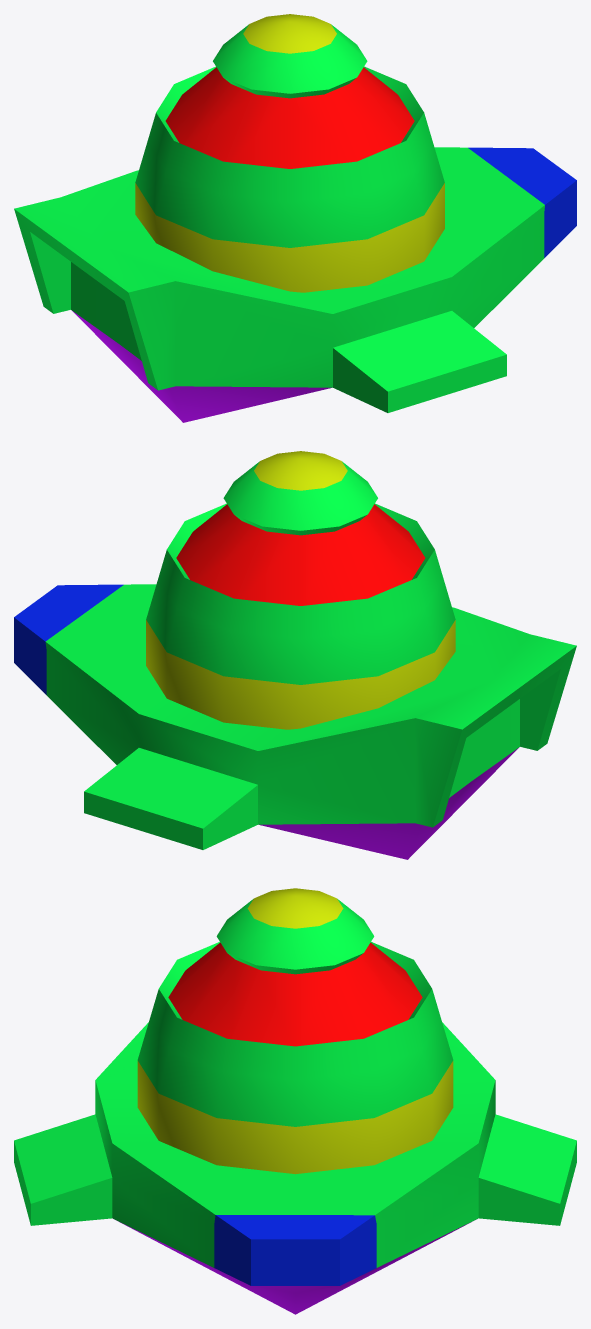
File: Enemy_Bomber.FBX
3 renders of one model, top to bottom at view 1: azimuth 30°, elevation 25°; view 2: azimuth 150°, elevation 25°; view 3: azimuth 270°, elevation 25°, orthographic. The views are drawn at different scales.
Visible parts, largest first — view 1: Enemy_Bomber; view 2: Enemy_Bomber; view 3: Enemy_Bomber.
Part boxes in pixels (x1,y1,x2,y2): Enemy_Bomber: [14, 14, 576, 422]; Enemy_Bomber: [14, 451, 576, 859]; Enemy_Bomber: [14, 888, 576, 1314].
Size of the model in its own units: 21.47 by 15.9 by 21.21.
